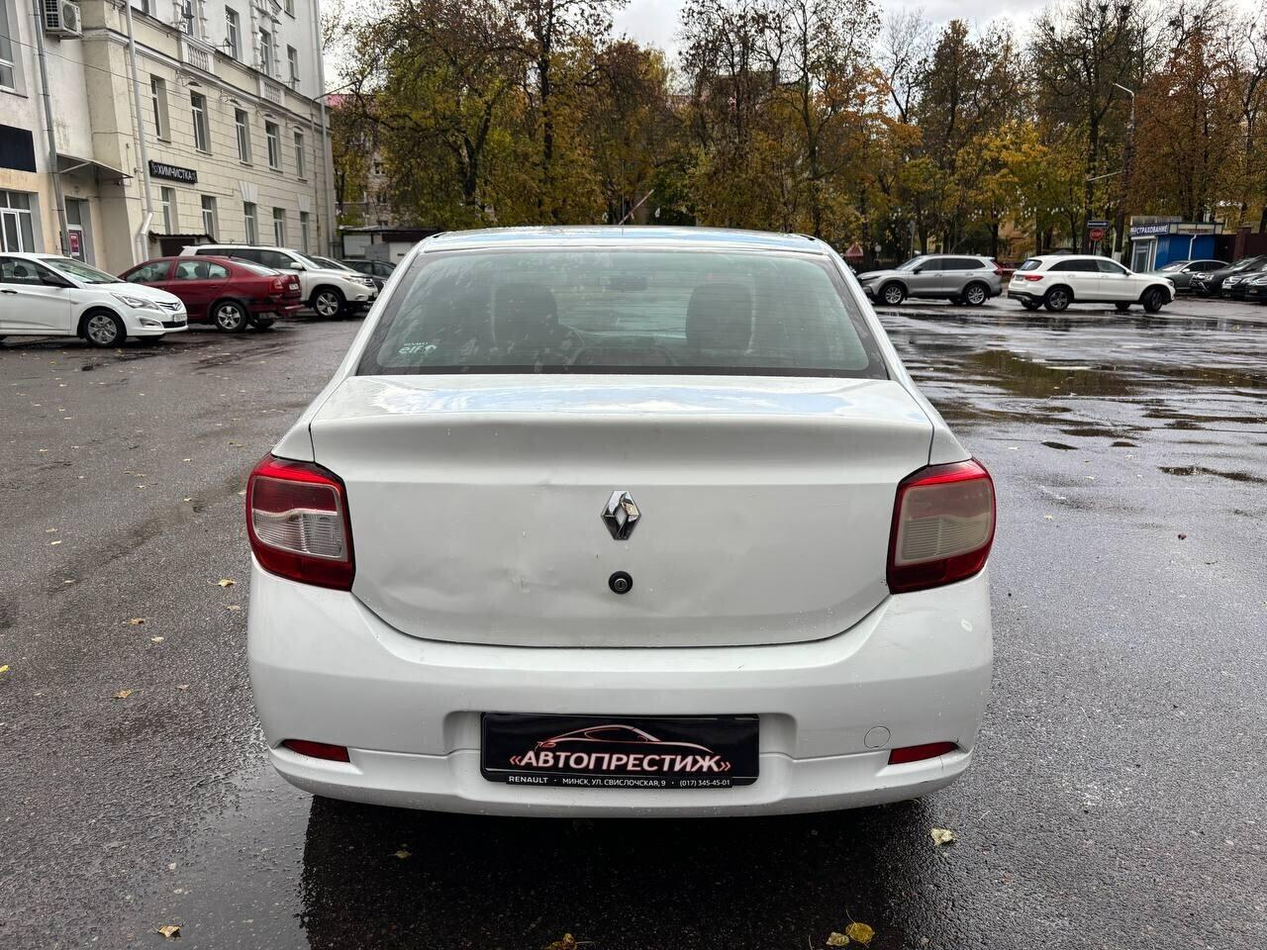Logan_2018: (239, 208, 1008, 825)
